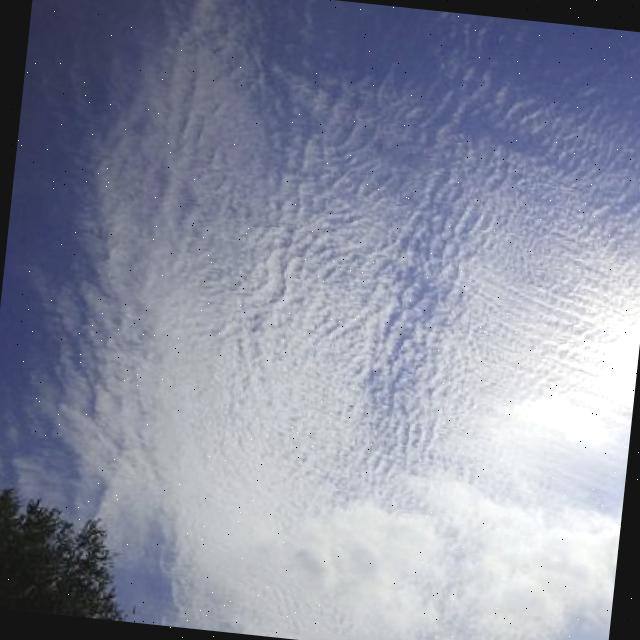Cc: (1, 4, 640, 564)
